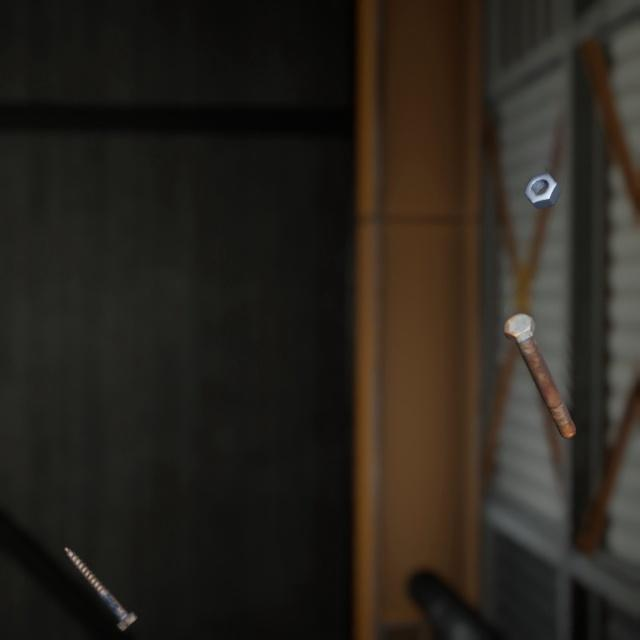bolt: (499, 289, 580, 425), (59, 520, 142, 613)
nut: (519, 153, 566, 199)
